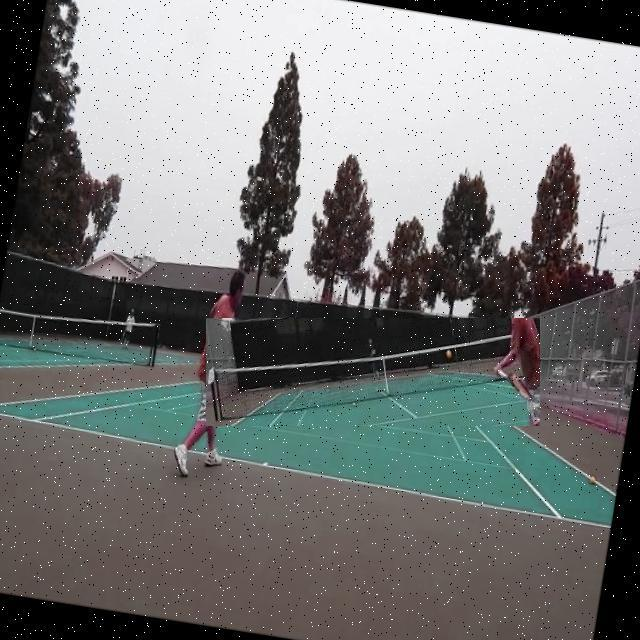court: (0, 319, 628, 528)
net: (206, 318, 540, 426)
player: (169, 266, 267, 486)
